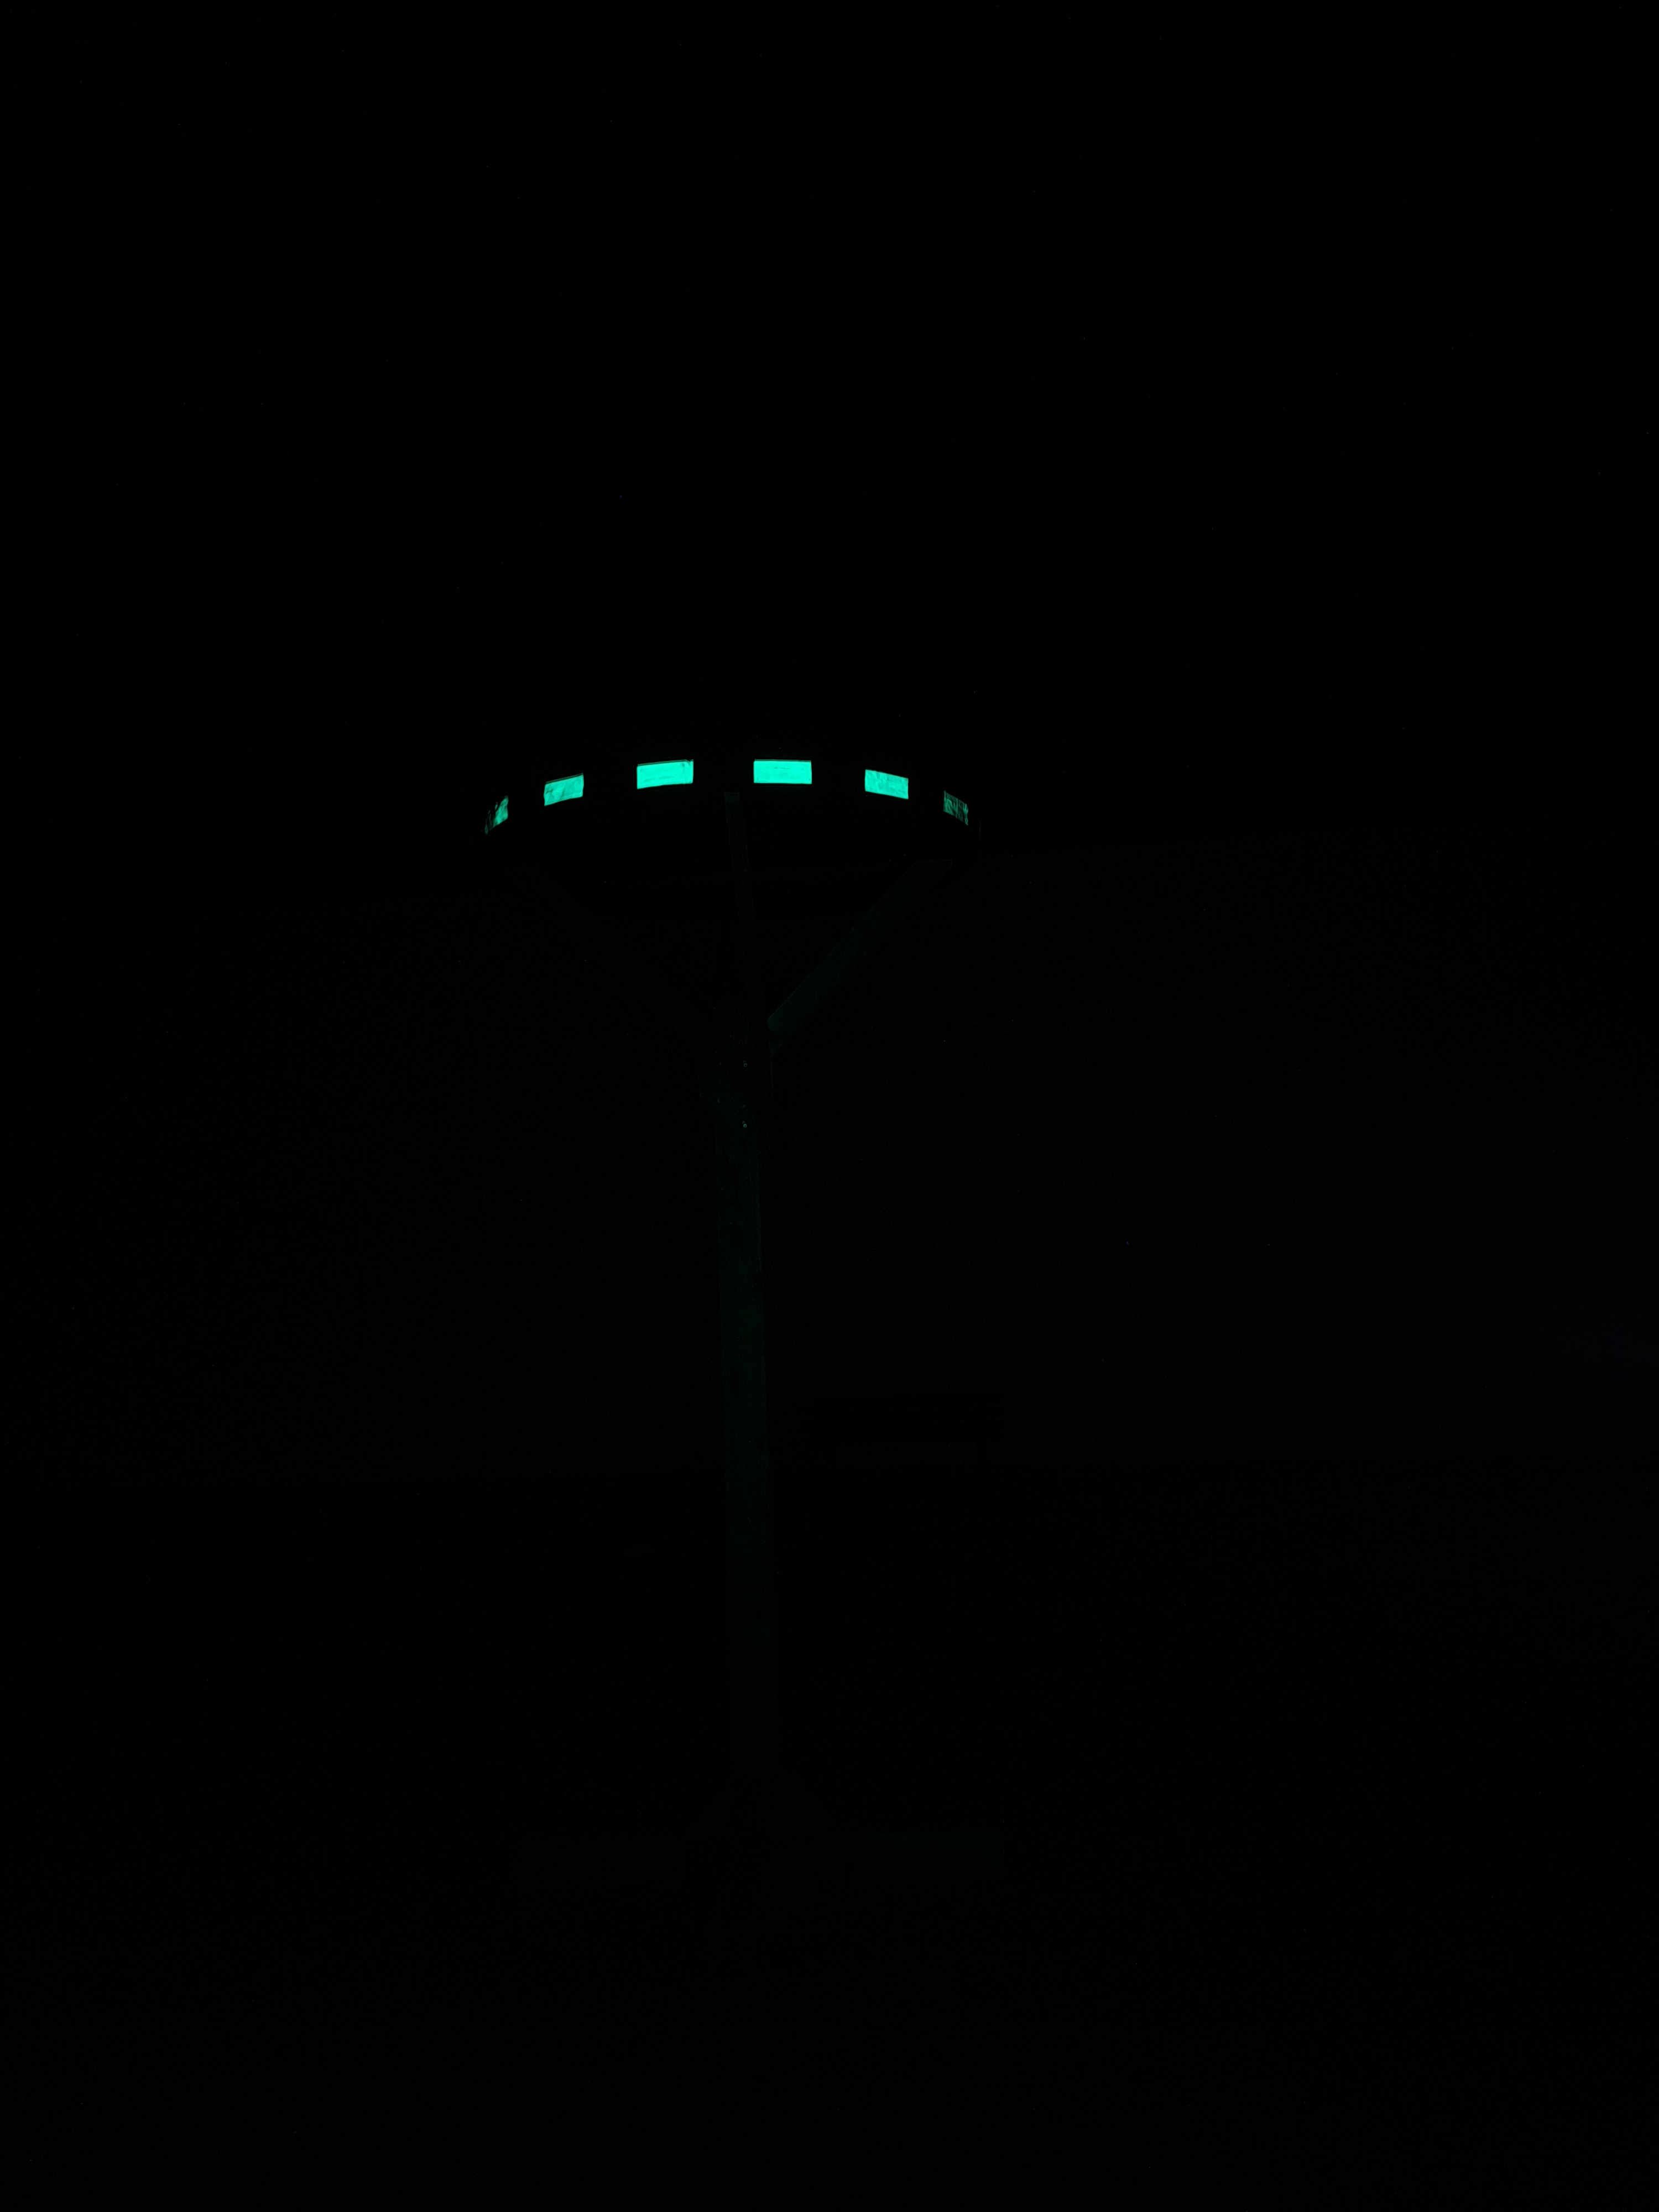hoop: (467, 745, 974, 840)
